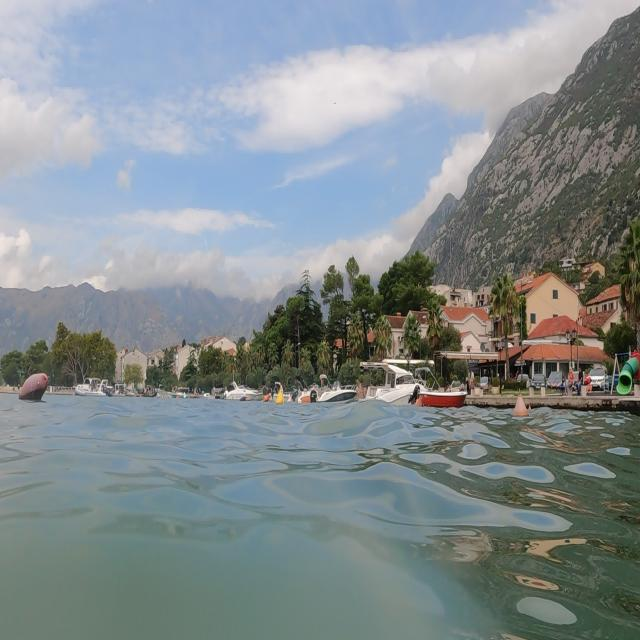boat: (362, 354, 432, 406), (418, 356, 472, 421), (294, 373, 358, 412), (72, 368, 134, 399), (218, 374, 266, 414)
buoy: (14, 369, 55, 418), (508, 386, 533, 426)
